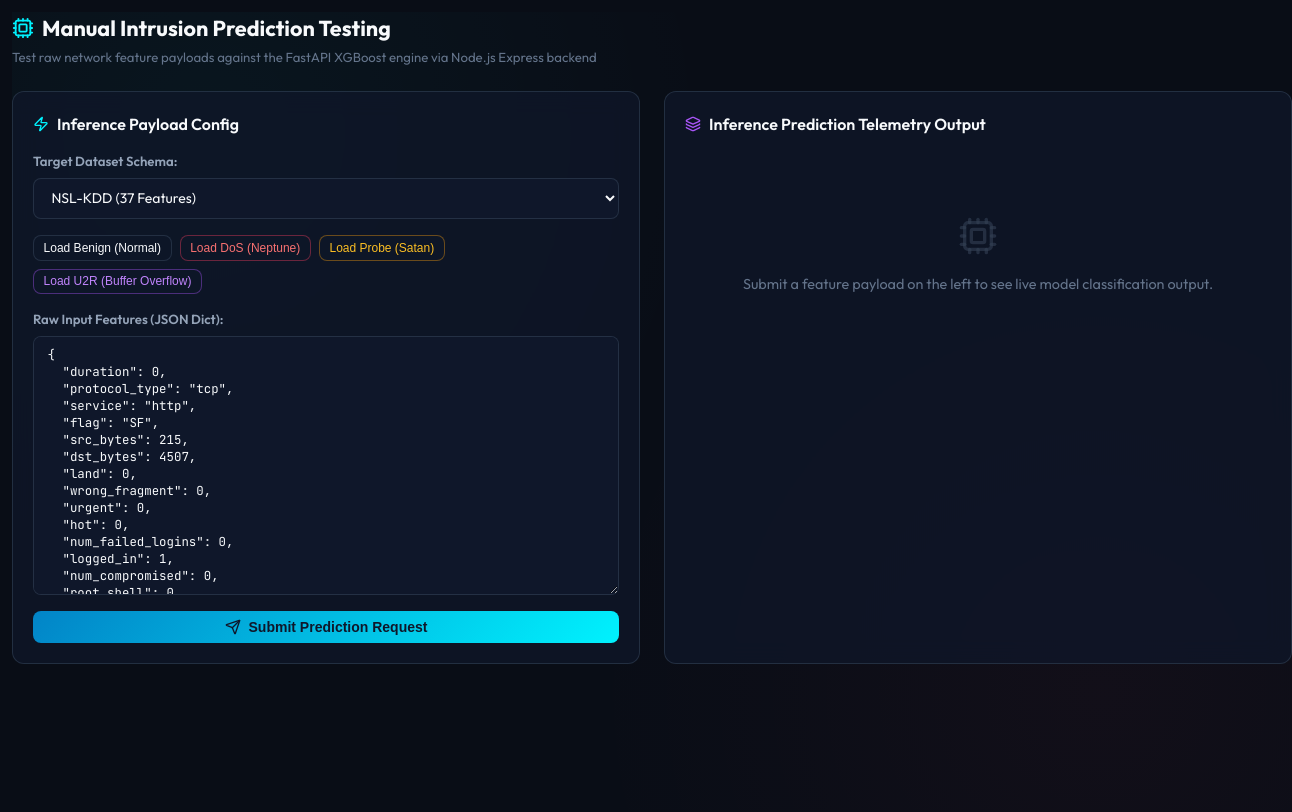
Scenario: PHASE 20.5: Manual CICIDS2017 DoS Hulk Prediction Integrity Audit Tests › transparently renders "Missed Attack (False Negative)" alert when model misclassifies attack as BENIGN
The image size is (1292, 812).
// Switch to CICIDS2017
Select "CICIDS2017 (43 Features)" in the dropdown at coordinates (326, 198), box x1=33 y1=178 x2=619 y2=219
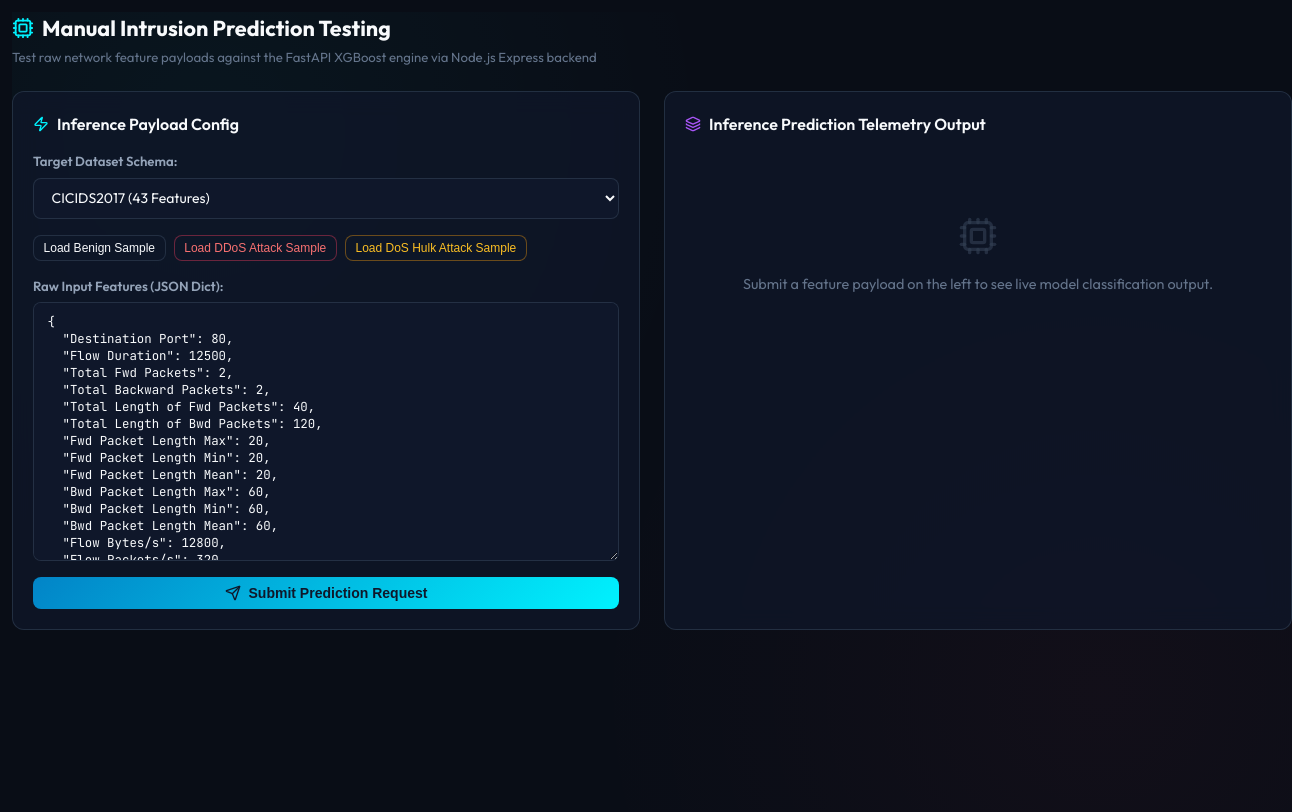
// Load Hulk preset (Ground Truth: DoS Hulk)
Click the button "Load DoS Hulk Attack Sample" at coordinates (436, 248), box x1=345 y1=235 x2=527 y2=261
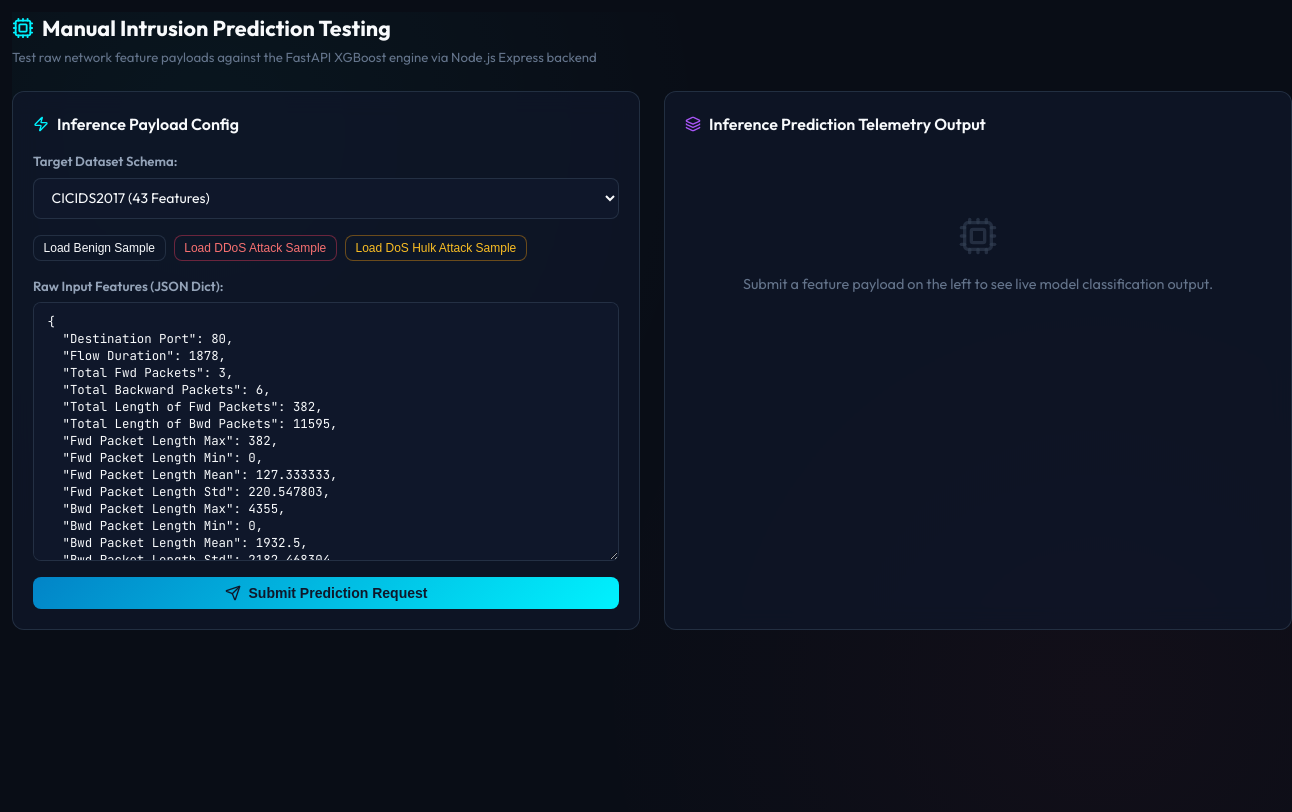
Click the button "Submit Prediction Request" at coordinates (326, 593), box x1=33 y1=577 x2=619 y2=609
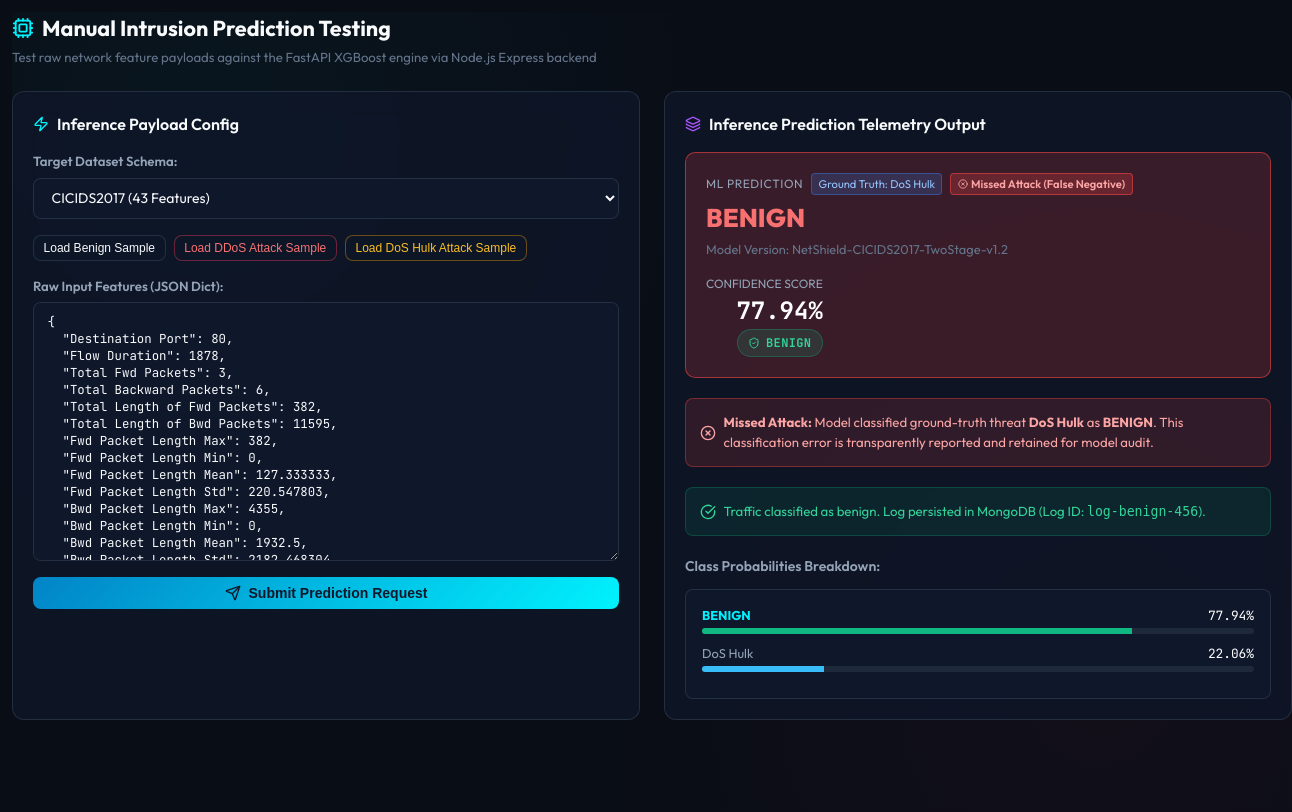
Check: the text "Missed Attack (False Negative)" is shown, box x1=950 y1=173 x2=1133 y2=195
Check: the text "Model classified ground-truth threat" is shown, box x1=812 y1=414 x2=1029 y2=430
Check: the text "BENIGN" below "ML Prediction" is shown, box x1=706 y1=200 x2=805 y2=234
